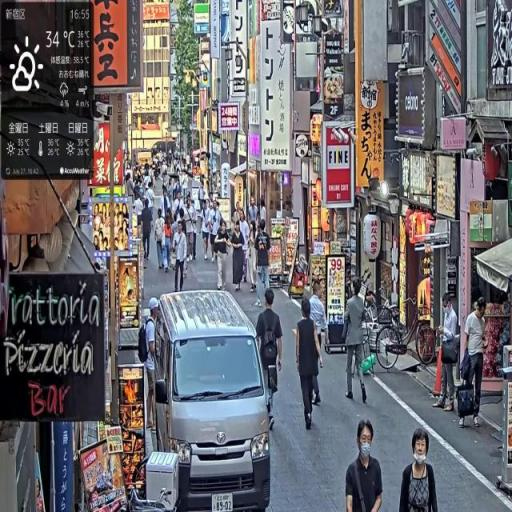person: (256, 289, 285, 427), (296, 296, 324, 435), (460, 295, 489, 428), (345, 419, 384, 512), (400, 426, 440, 512), (139, 297, 162, 442), (432, 295, 460, 413), (344, 278, 367, 404), (309, 281, 329, 411), (256, 217, 273, 309), (231, 217, 248, 295), (215, 219, 232, 292), (173, 221, 189, 292), (185, 196, 200, 263), (156, 207, 168, 271)
